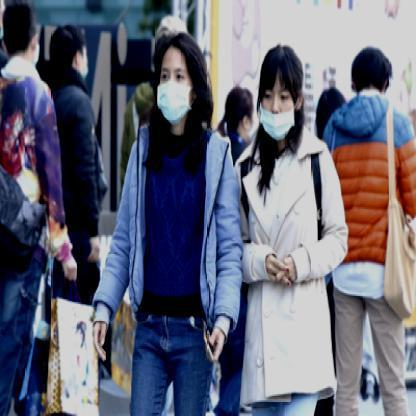mask_weared_incorrect: (260, 83, 298, 141)
with_mask: (156, 61, 192, 127)
